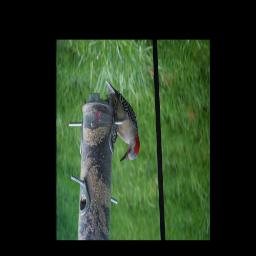Woodpecker: (105, 79, 139, 162)
